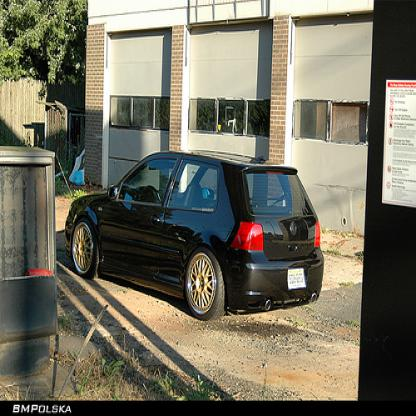car: (63, 147, 326, 325)
